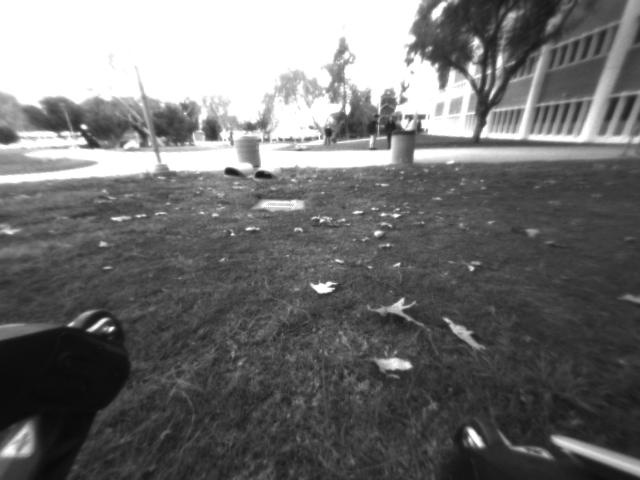trashcan: (386, 131, 418, 170), (235, 136, 264, 170)
